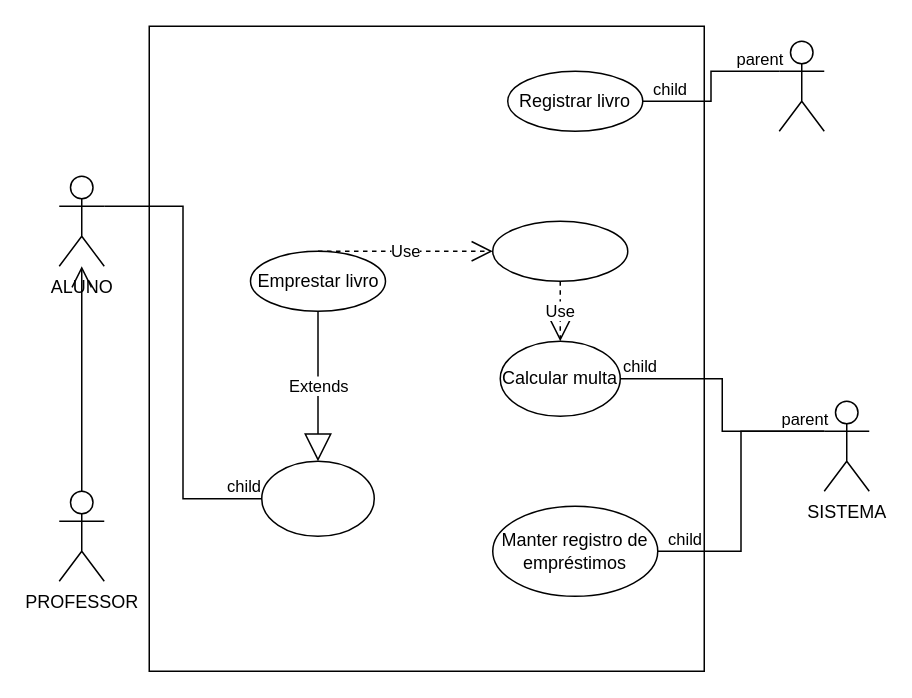
Image size: 912x698. Some labels were removed from this diagram. The shapes that lost their labels are listed below. From the top down, each one's centre as x and y in pixels, then its label:
At point (801, 85): "FUNCIONÁRIO".
At point (559, 250): "Devolver livro".
At point (317, 498): "Buscar livro".
